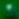green: (0, 0, 19, 19)
